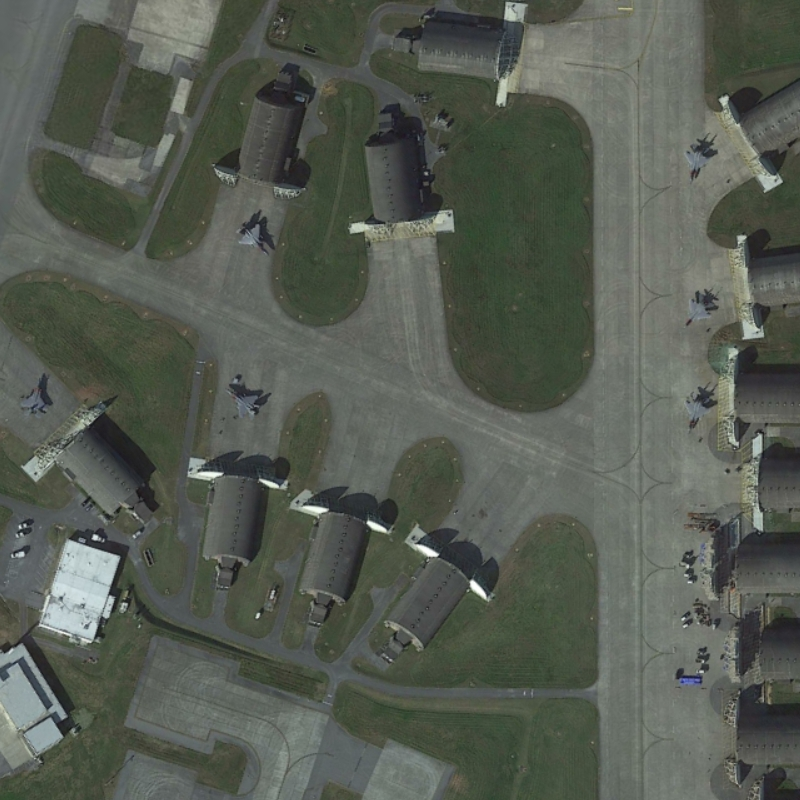A13: (17, 370, 54, 419), (223, 381, 263, 423), (681, 389, 714, 439), (679, 142, 712, 187), (235, 219, 272, 259), (679, 292, 715, 331)
